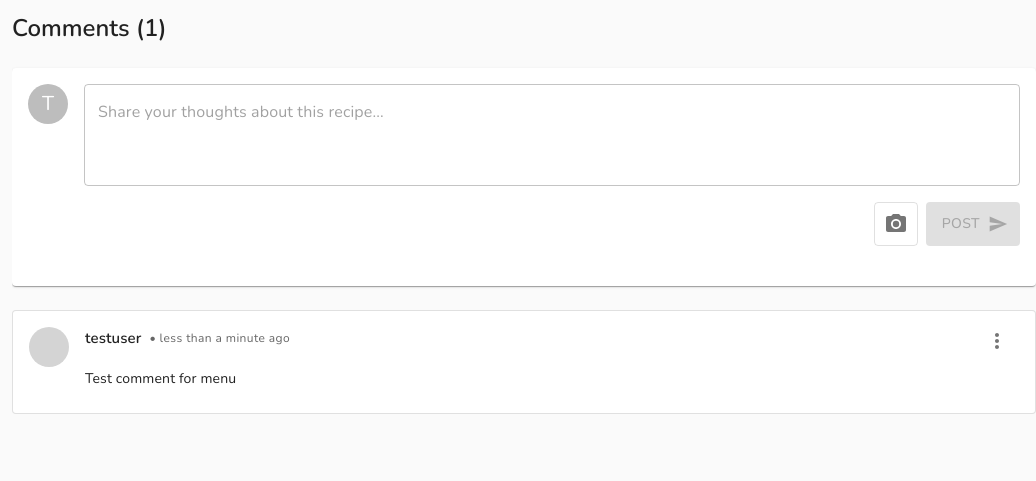
Test: CommentsSection Component › Menu onClose - line 632 › should close menu when clicking away - line 632
Expected: the text "Test comment for menu" is shown, [85,369,236,388]
Click the button without text in the row of "less than a minute ago" at [997, 341], box [975,319,1019,363]
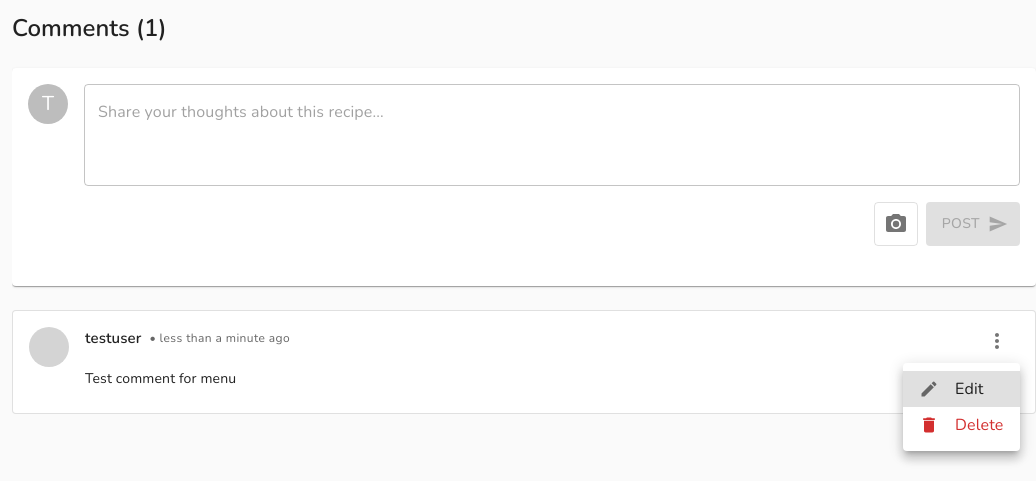
Now the menu item "Edit" is shown
Press Escape to trigger onClose (line 632)
Press Escape in the menu item "Edit", box [903,371,1020,407]
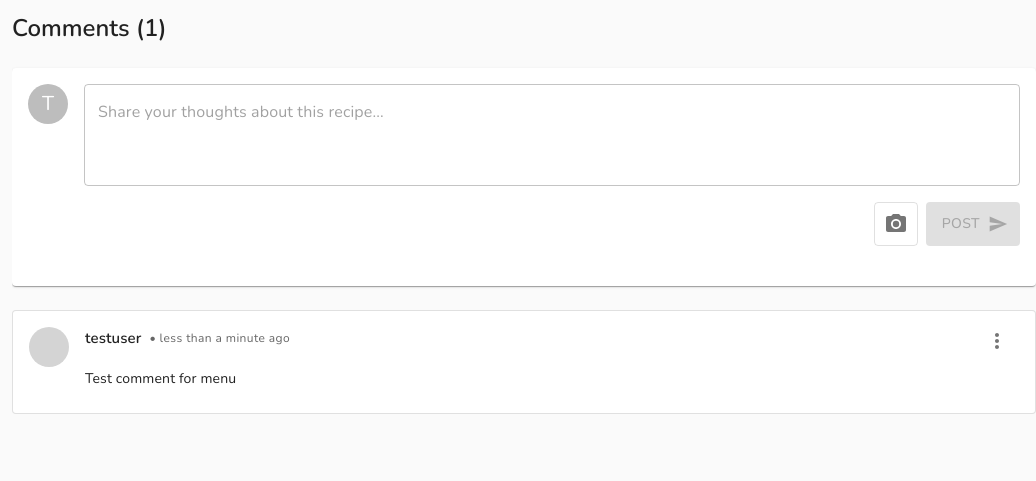
Now the menu item is gone
